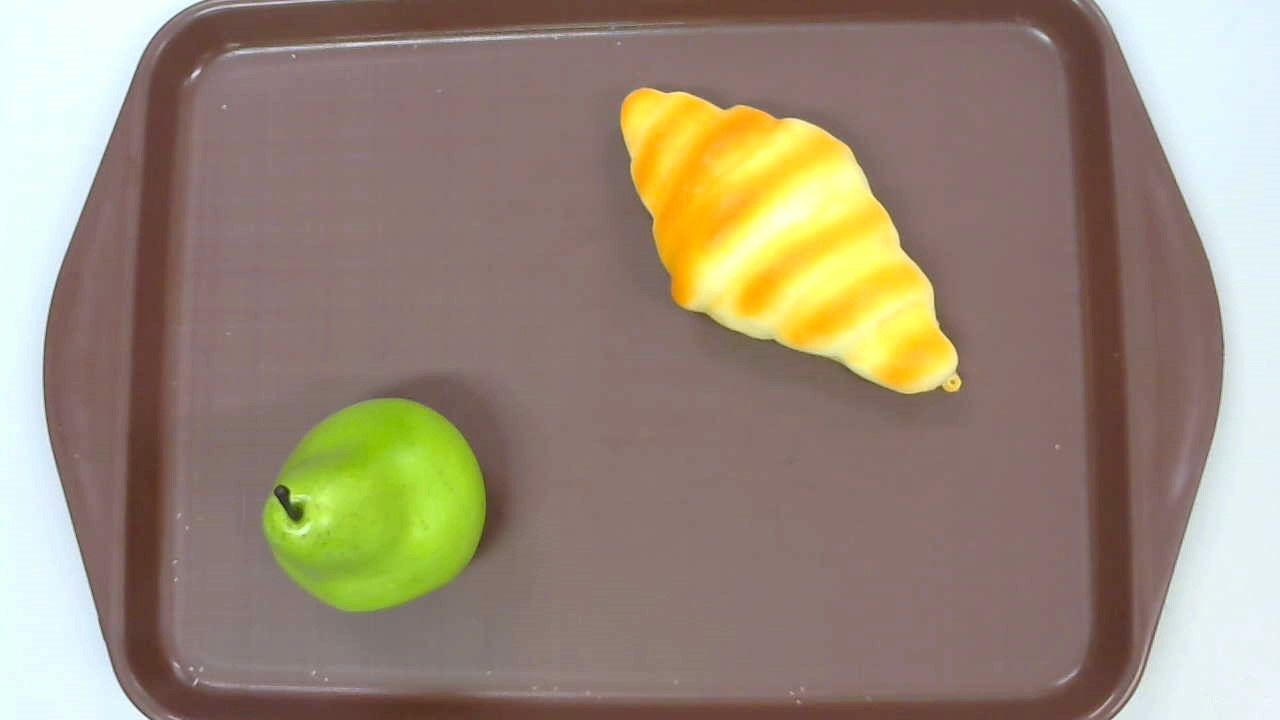croissant: (620, 86, 961, 396)
green pear: (263, 398, 485, 610)
